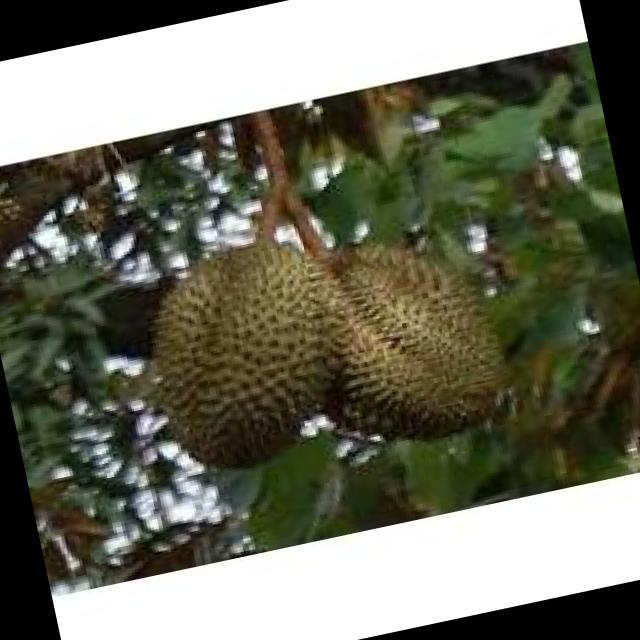fruit: (99, 190, 398, 503), (296, 192, 542, 470)
